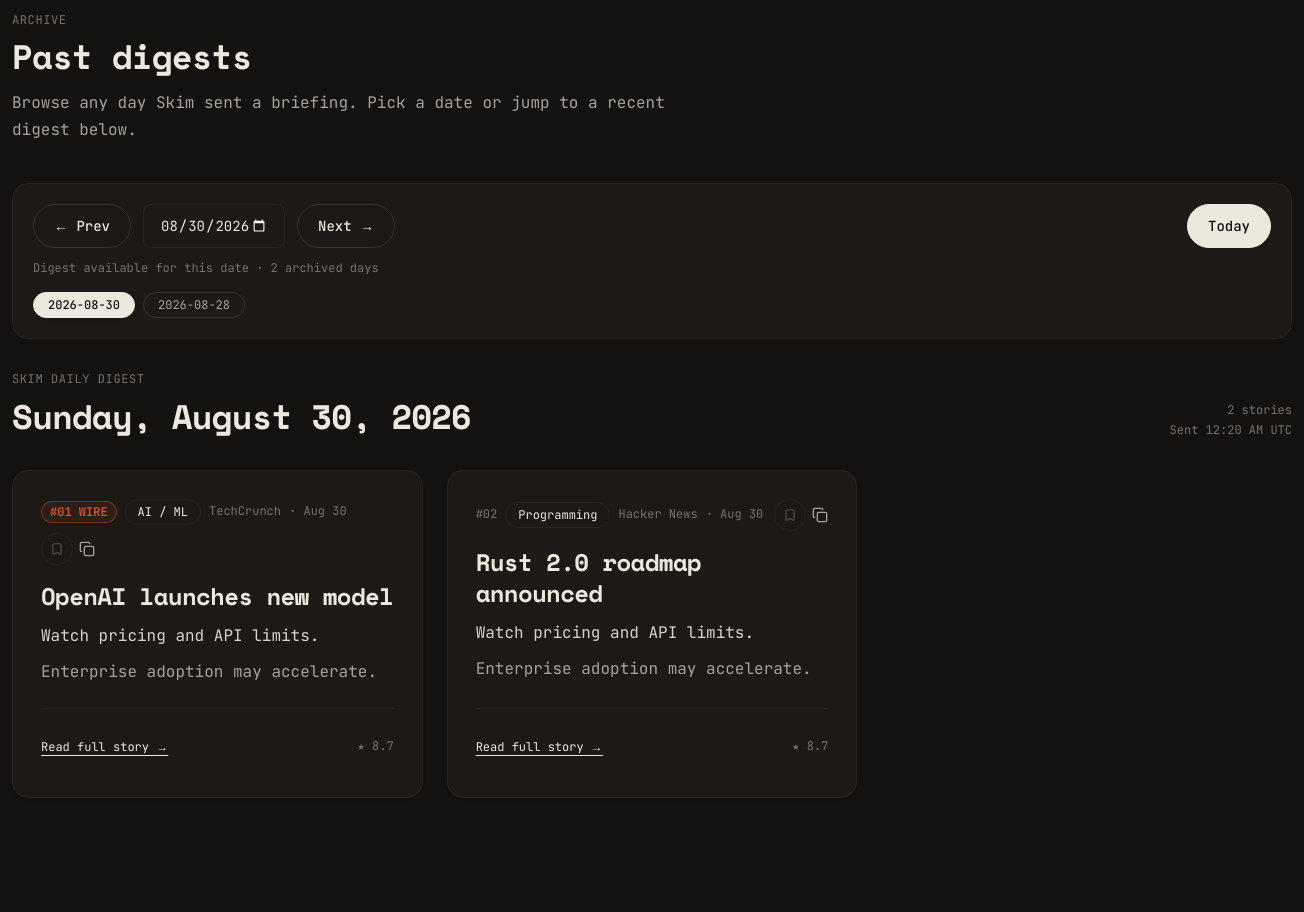
Scenario: ArchiveView › shows retry when digest fetch fails
Click the button "2026-08-28" at (194, 305), box top-left (143, 292), bottom-right (245, 318)
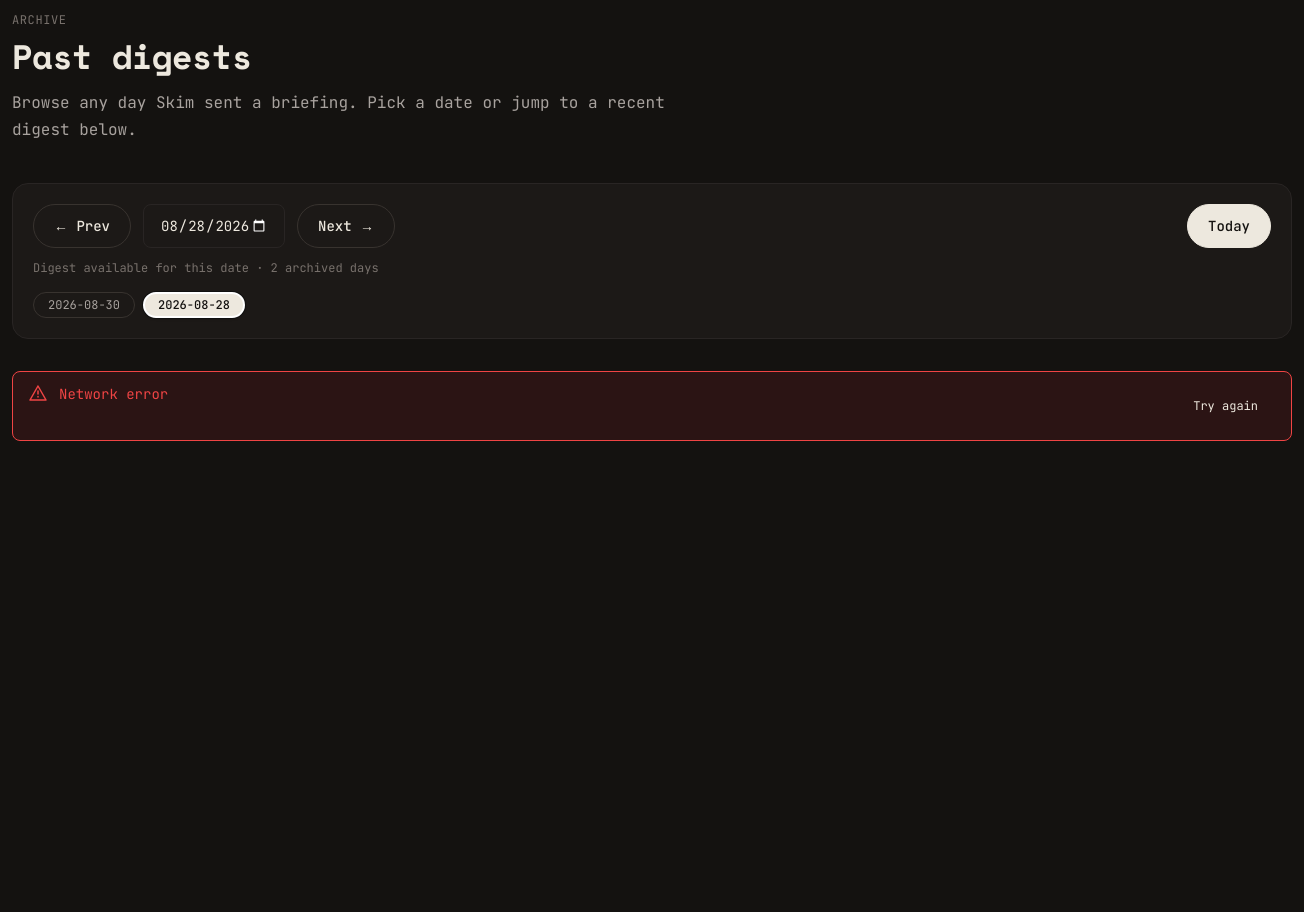
Expected: the message shows "Network error", top-left (59, 385), bottom-right (168, 403)
Expected: the button "Try again" is shown, top-left (1176, 384), bottom-right (1275, 428)
